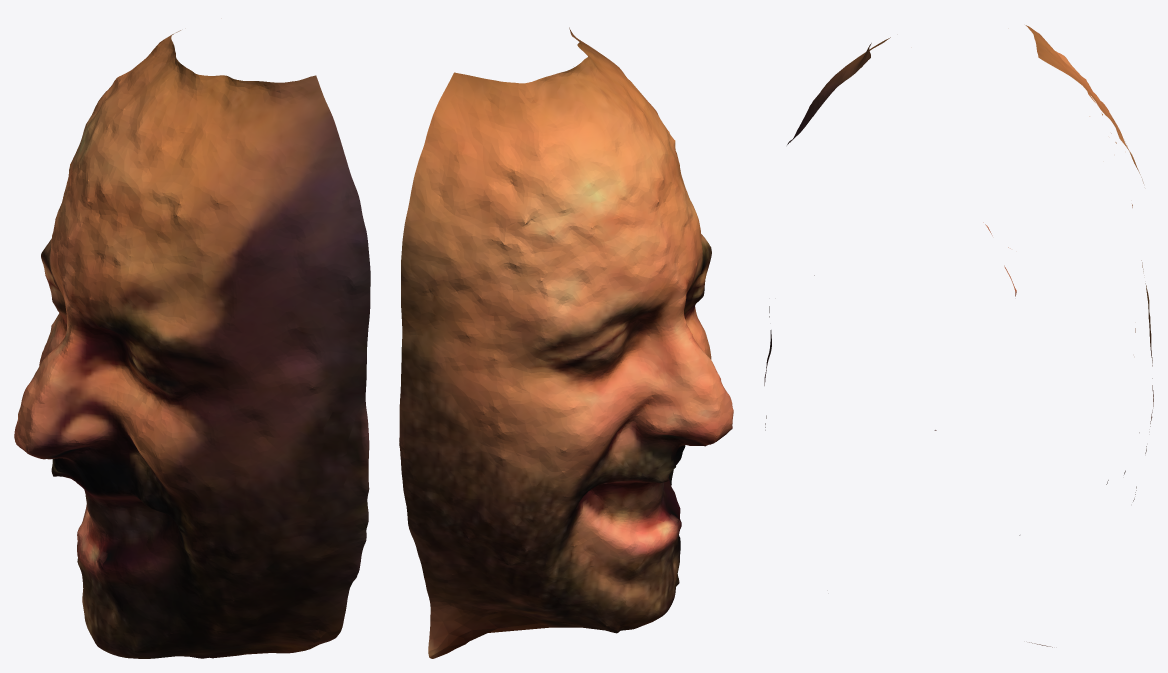
Rendered from Faccia 0 comp.glb.
3 views of the same model, side by side, from view 1: azimuth 30°, elevation 25°; view 2: azimuth 150°, elevation 25°; view 3: azimuth 270°, elevation 25° (orthographic). The views are drawn at different scales.
Parts seen in each view (by area): view 1: mesh; view 2: mesh; view 3: mesh.
Part boxes in pixels (x1,y1,x2,y2): mesh: (14, 30, 370, 658); mesh: (399, 27, 733, 658); mesh: (764, 25, 1153, 647).
Bounding box in the file's own units: 0.1101 × 0.2541 × 0.1501.
Materials: 1 (1 with a texture image).
